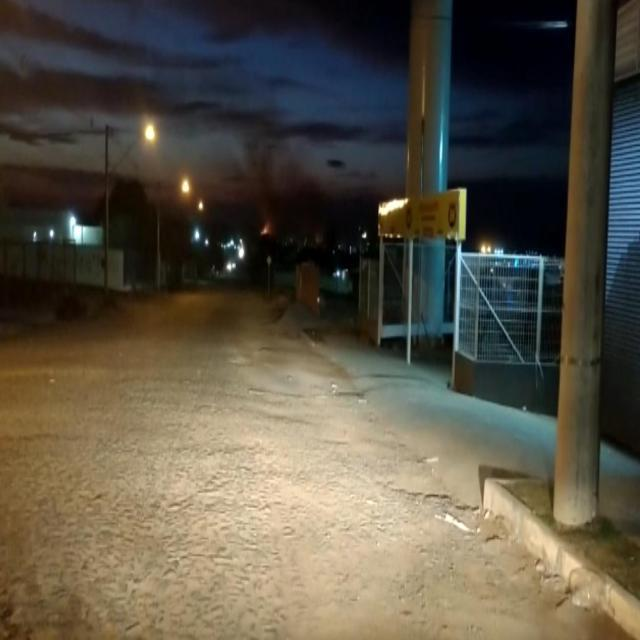Fire: (257, 222, 273, 240)
Smoke: (221, 131, 349, 218)
